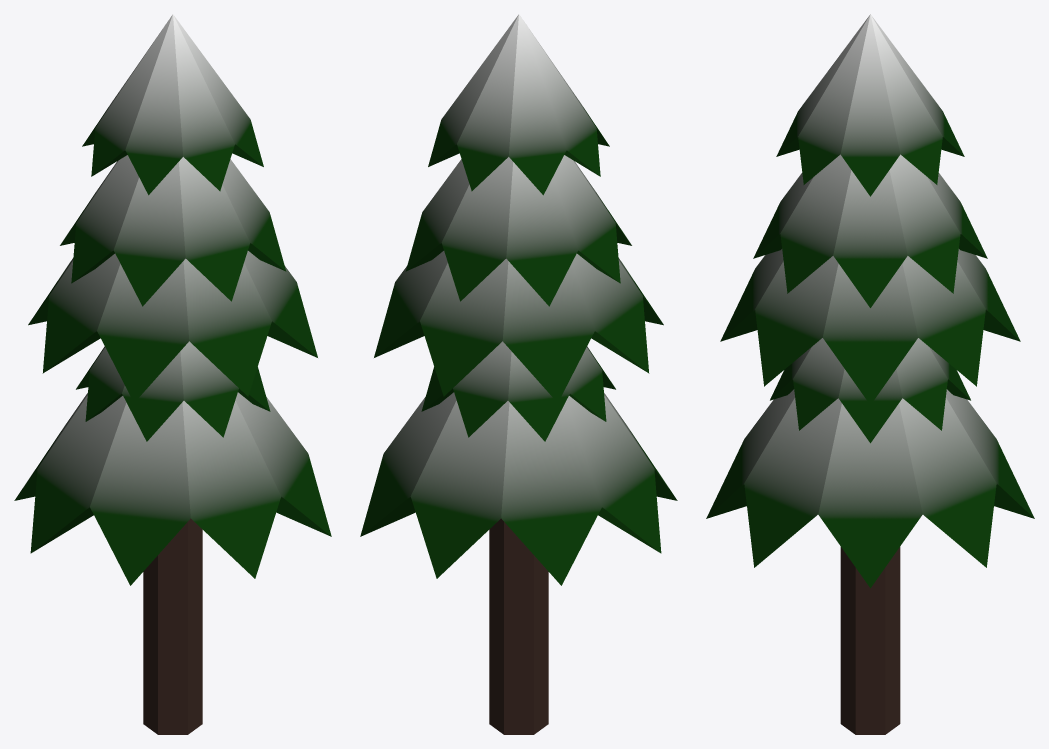
The model's file is Tree6.glb.
3 views of the same model, side by side, from view 1: azimuth 30°, elevation 25°; view 2: azimuth 150°, elevation 25°; view 3: azimuth 270°, elevation 25° (orthographic).
Visible parts, largest first — view 1: Leaves6.005, Leaves6.003, Leaves6.002, Leaves6.001, Wood6, Leaves6.004; view 2: Leaves6.005, Leaves6.003, Leaves6.002, Leaves6.001, Wood6, Leaves6.004; view 3: Leaves6.005, Leaves6.003, Leaves6.002, Leaves6.001, Wood6, Leaves6.004.
Part boxes in pixels (x1,y1,x2,y2): Leaves6.005: [14, 392, 331, 585]; Leaves6.003: [28, 251, 317, 402]; Leaves6.002: [60, 155, 286, 306]; Leaves6.001: [82, 14, 263, 195]; Wood6: [143, 518, 202, 734]; Leaves6.004: [76, 341, 270, 441]; Leaves6.005: [360, 392, 677, 585]; Leaves6.003: [374, 251, 663, 402]; Leaves6.002: [405, 155, 631, 306]; Leaves6.001: [428, 14, 609, 195]; Wood6: [489, 518, 548, 734]; Leaves6.004: [421, 341, 615, 441]; Leaves6.005: [706, 389, 1034, 588]; Leaves6.003: [720, 249, 1020, 404]; Leaves6.002: [753, 154, 987, 307]; Leaves6.001: [776, 14, 964, 196]; Wood6: [840, 547, 900, 734]; Leaves6.004: [770, 338, 970, 443].
Size of the model in its own units: 21.16 by 50.42 by 21.16.
Materials: 2 (2 with a texture image).
